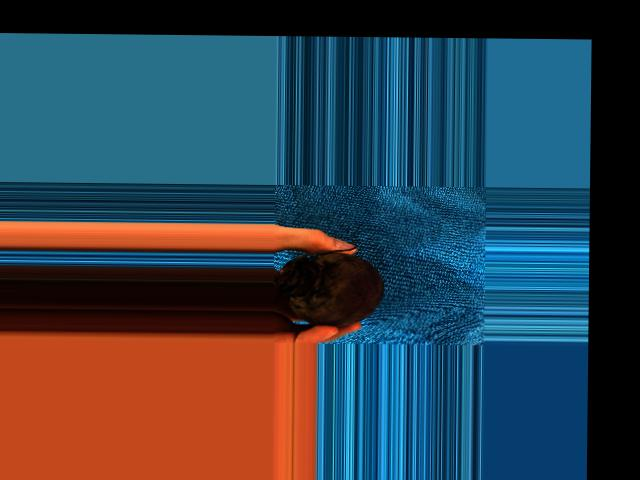beet: (274, 242, 384, 326)
